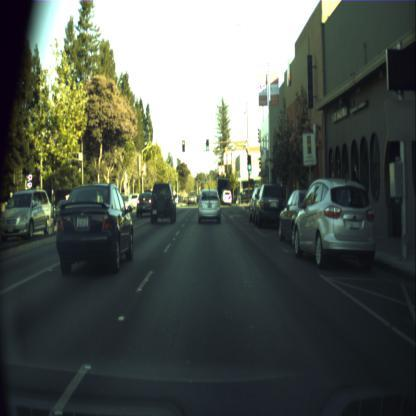Green: (247, 154, 250, 170), (206, 138, 209, 150), (248, 168, 252, 174)
RedLeft: (182, 140, 185, 151)
